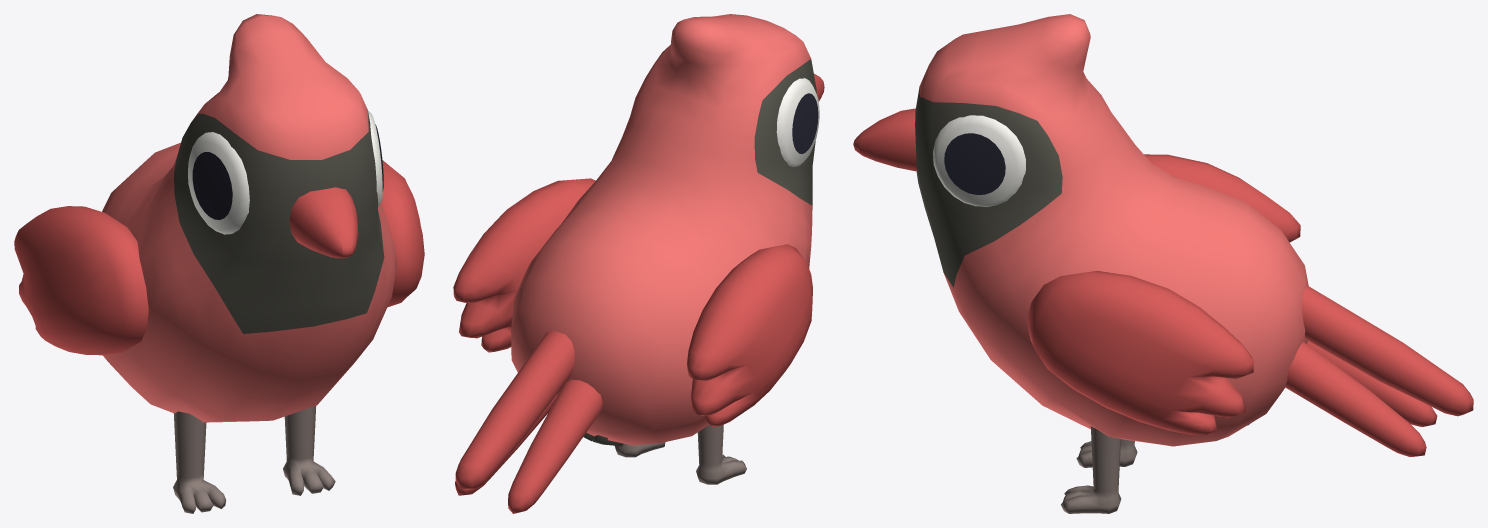
The model's file is Cardinal.glb.
3 renders of one model, left to right at view 1: azimuth 30°, elevation 25°; view 2: azimuth 150°, elevation 25°; view 3: azimuth 270°, elevation 25°, orthographic. The views are drawn at different scales.
Parts seen in each view (by area): view 1: Cardinal; view 2: Cardinal; view 3: Cardinal.
Boxes of the visible parts, x1,y1,x2,y2 form: Cardinal: (14,14,424,513); Cardinal: (453,14,824,513); Cardinal: (853,14,1473,513).
Size of the model in its own units: 1.15 by 1.53 by 1.85.
1 material, 1 textured.
